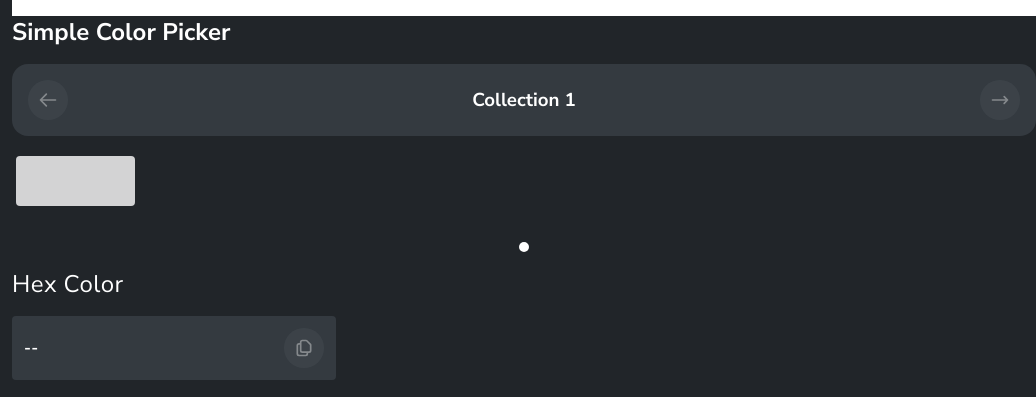
Test: Simple Color Picker app › Should show hex color onclick button colorbox
Click the button with test id "buttonColorBox" at [76, 181], box [16, 156, 135, 206]
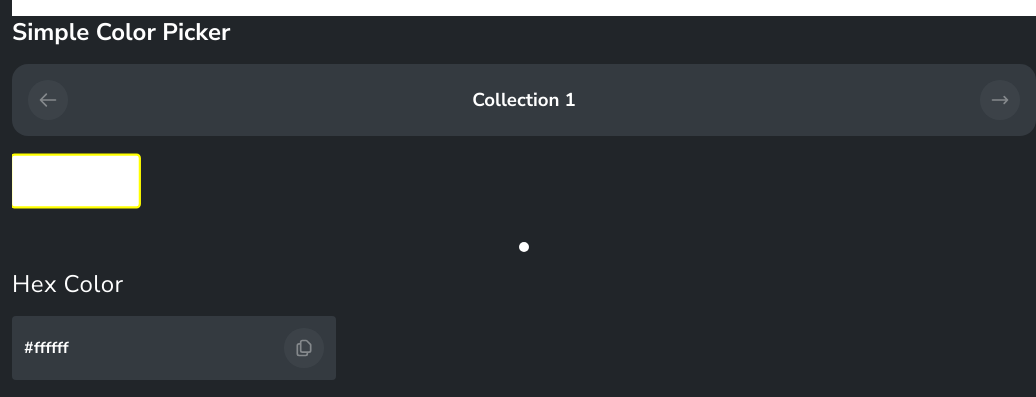
Expected: the text with test id "selectedColorField" reads "#ffffff", [24, 337, 69, 359]
